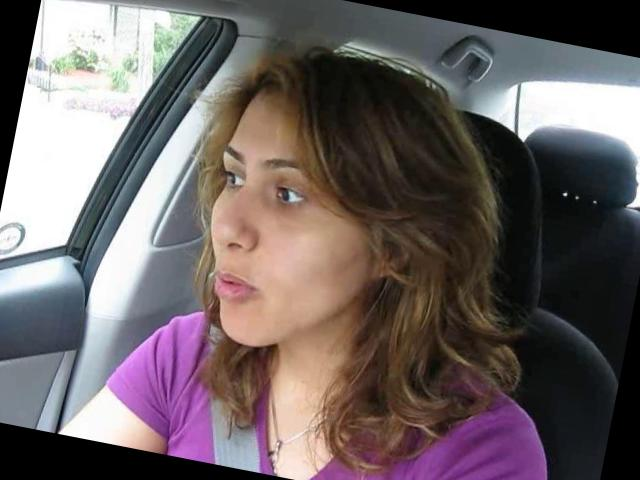eye_open: (263, 174, 314, 216), (218, 163, 248, 194)
face: (180, 129, 376, 365)
